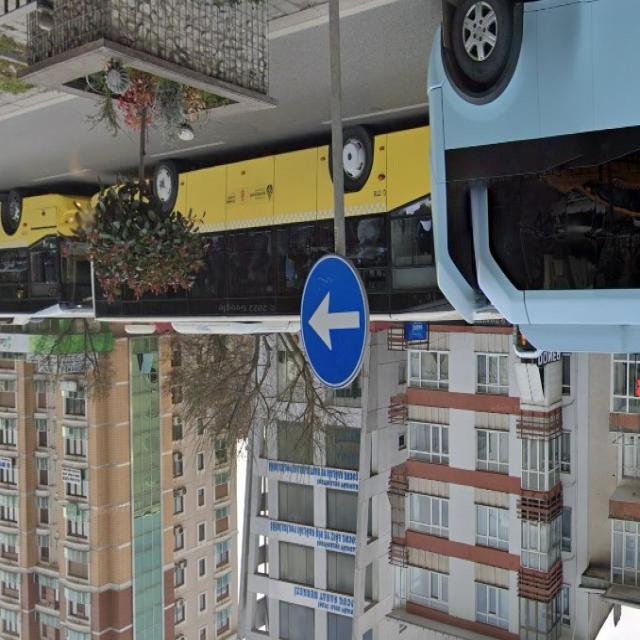Turn Left: (302, 254, 374, 388)
